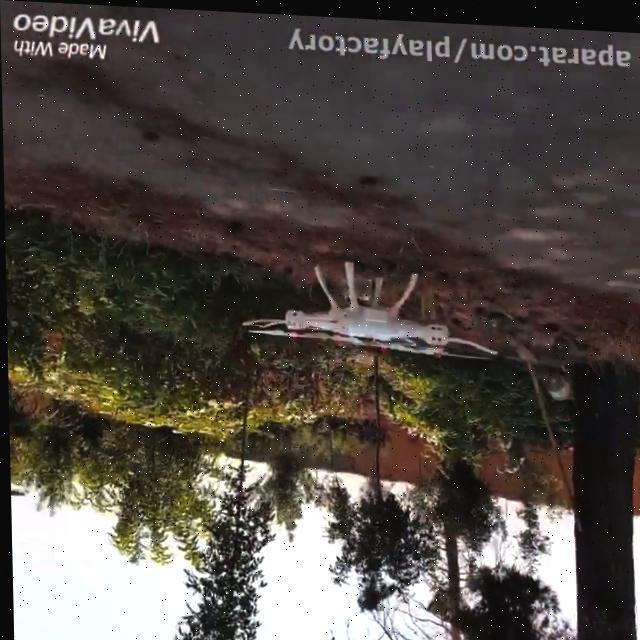drone: (237, 253, 497, 359)
